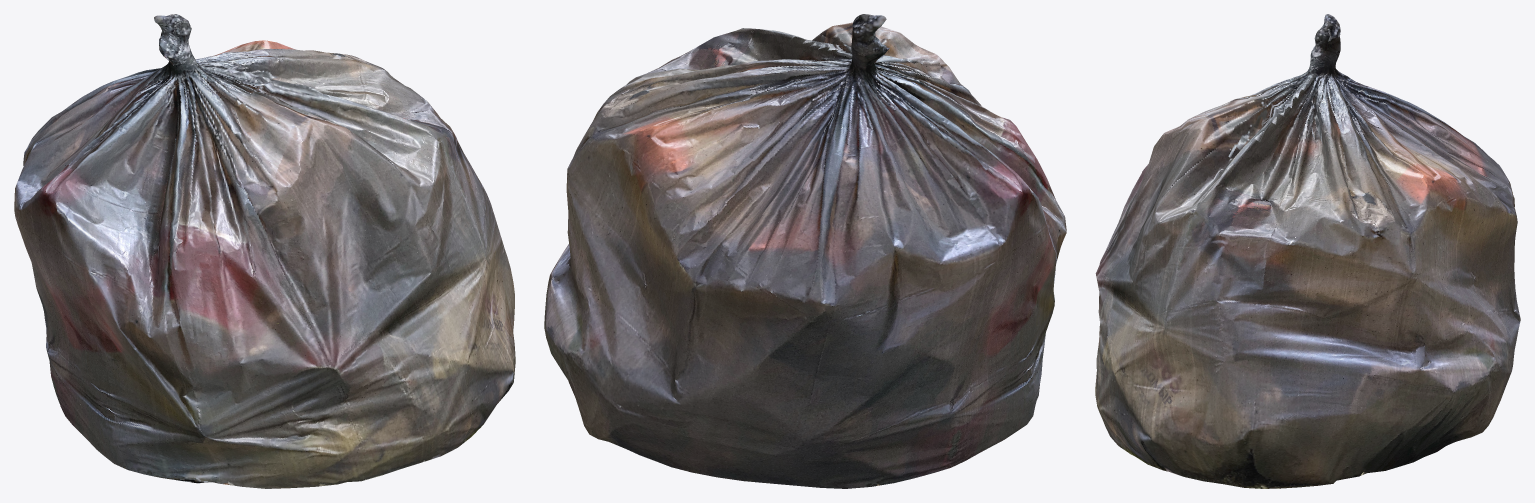
The model's file is trash_bag_1.glb.
3 views of the same model, side by side, from view 1: azimuth 30°, elevation 25°; view 2: azimuth 150°, elevation 25°; view 3: azimuth 270°, elevation 25° (orthographic). The views are drawn at different scales.
Visible parts, largest first — view 1: normal1; view 2: normal1; view 3: normal1.
Part boxes in pixels (bbox=[...]): normal1: bbox=[14, 14, 515, 488]; normal1: bbox=[544, 14, 1066, 488]; normal1: bbox=[1095, 14, 1520, 488].
Size of the model in its own units: 2.47 by 2.13 by 2.32.
Materials: 1 (1 with a texture image).
